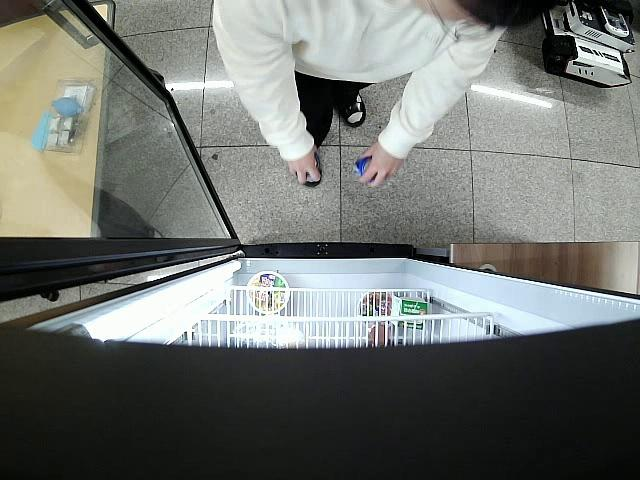00_hand: (355, 140, 405, 189), (285, 142, 324, 185)
